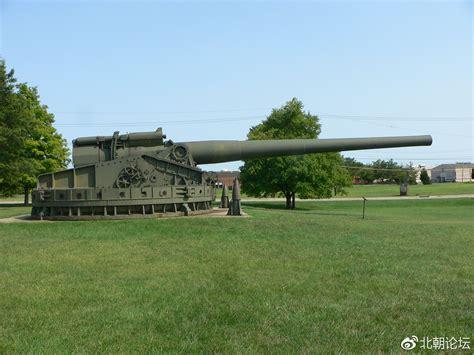MIL_SPG: (32, 129, 432, 219)
